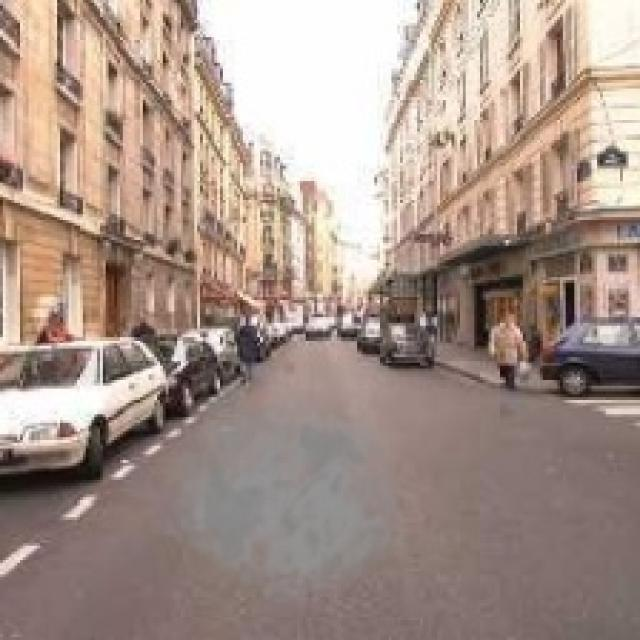Smoke: (148, 374, 412, 606)
